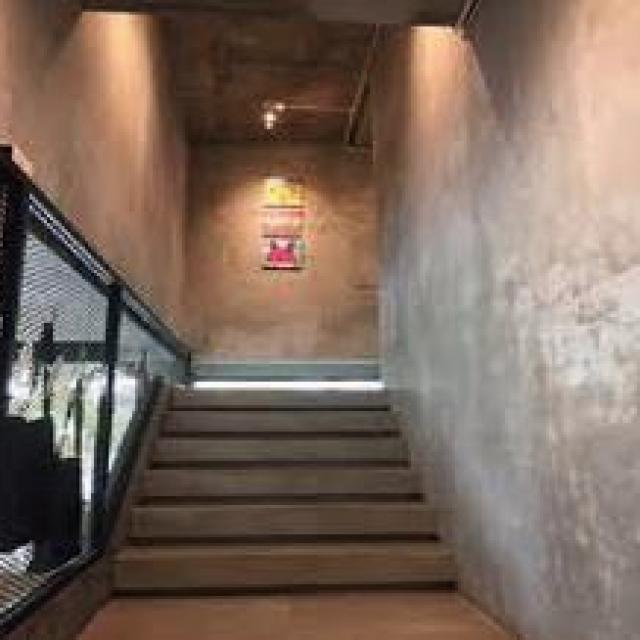upstair: (116, 354, 447, 574)
